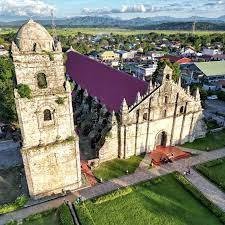paoay_church_paoay_ilocos_norte: (7, 12, 216, 197)
vegetation_damage: (16, 83, 35, 100), (55, 96, 66, 108)
